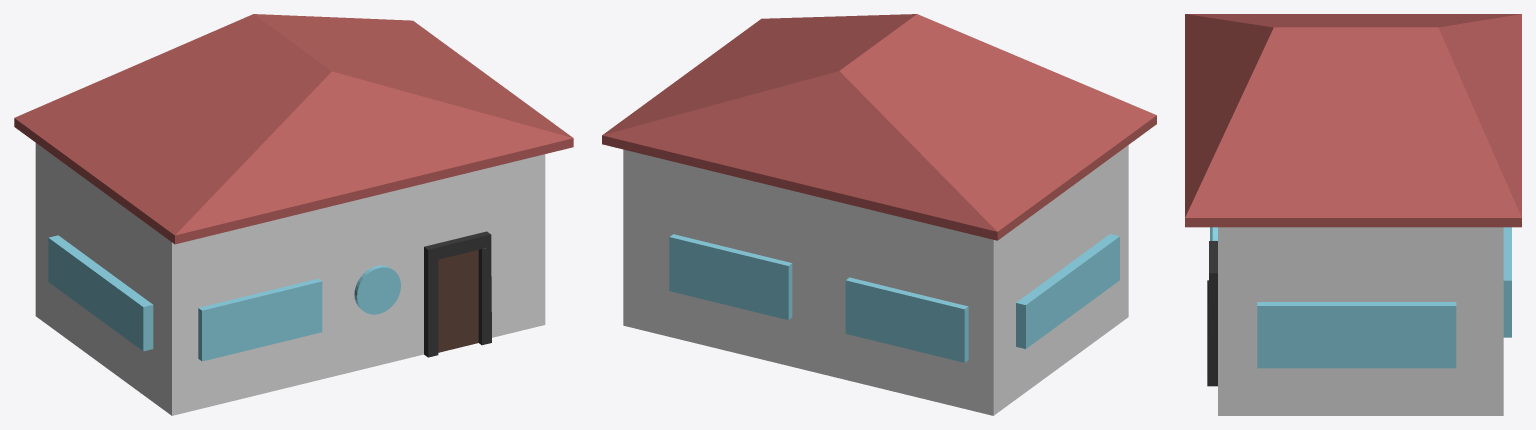
Rendered from House.fbx.
The picture shows the model from 3 angles, left to right: view 1: azimuth 30°, elevation 25°; view 2: azimuth 150°, elevation 25°; view 3: azimuth 270°, elevation 25°; orthographic projection. The views are drawn at different scales.
Visible parts, largest first — view 1: House.001; view 2: House.001; view 3: House.001.
Part boxes in pixels (x1,y1,x2,y2): House.001: [14, 14, 573, 415]; House.001: [602, 14, 1156, 415]; House.001: [1185, 14, 1521, 415].
Size of the model in its own units: 2.06 by 1.38 by 1.43.
